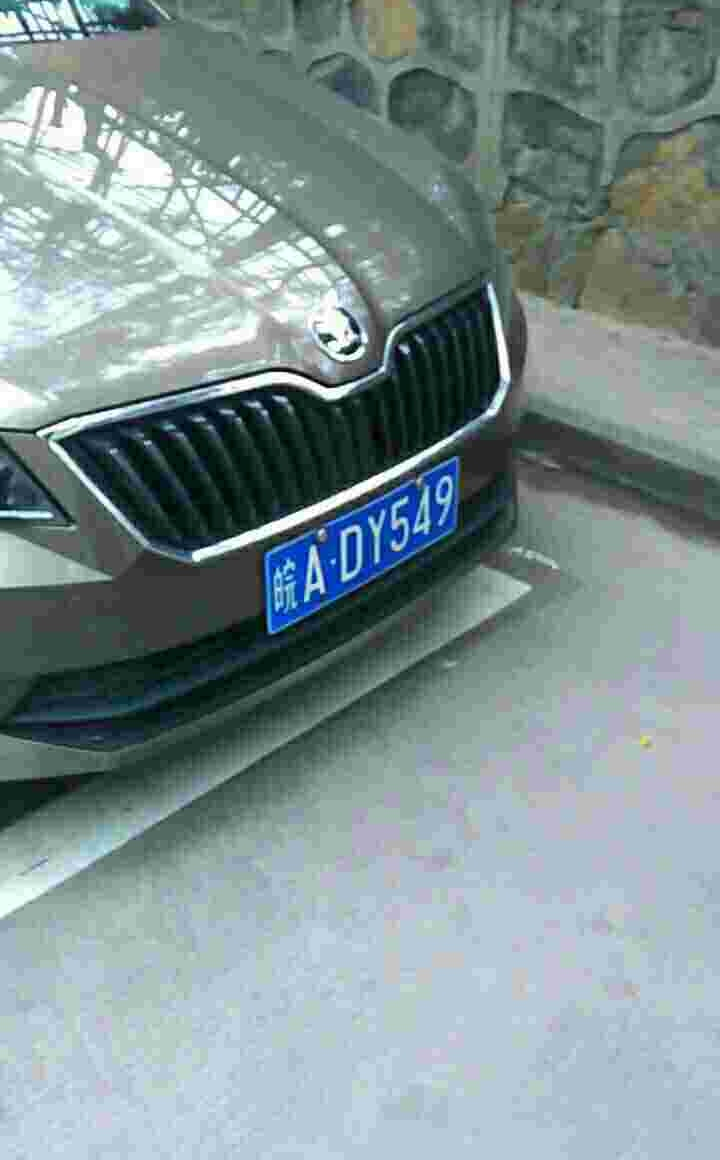car: (259, 450, 479, 633)
